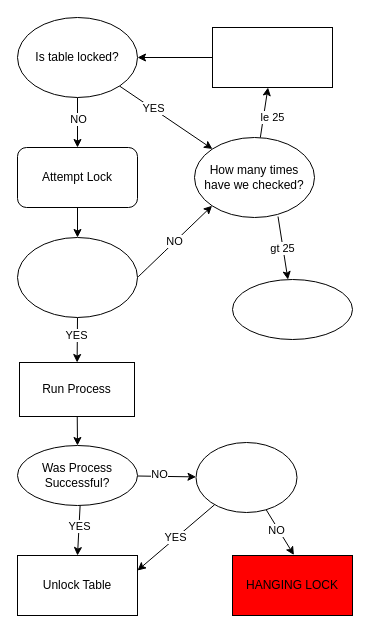
Some shapes in this 370 by 633 pixel diagram are drawn without their labels. Each missing label, with the centre of its shape:
"ABORT & INFORM USER" goes at point (292, 309).
"Is lock succesful?" goes at point (77, 277).
"Wait 1 second" goes at point (272, 57).
"Was error handled?" goes at point (246, 477).
